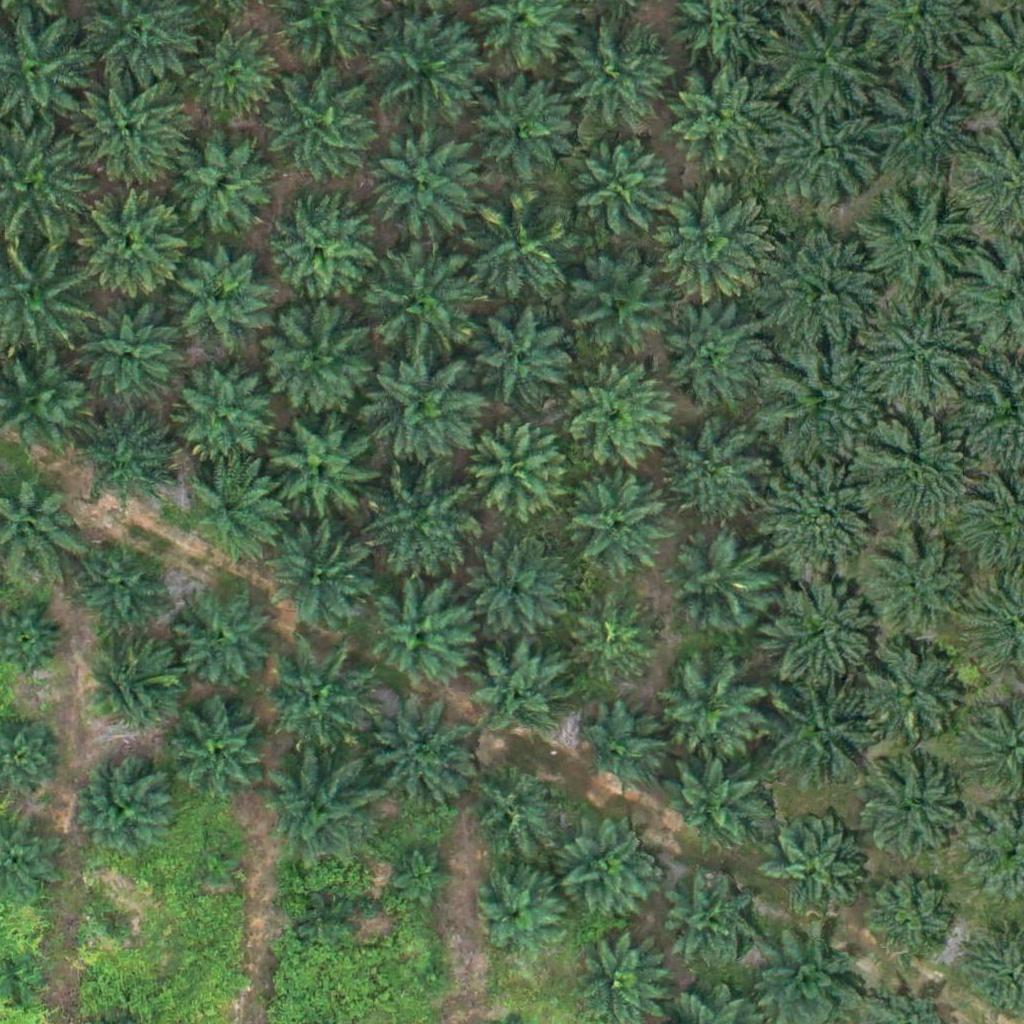Kelapa_Sawit: (362, 349, 487, 475), (651, 173, 776, 299), (647, 290, 772, 416), (764, 231, 889, 357), (764, 342, 889, 468), (864, 61, 989, 187), (761, 451, 886, 577), (852, 416, 977, 542), (859, 294, 984, 419), (756, 568, 881, 693), (269, 69, 382, 183), (260, 191, 373, 304), (263, 304, 376, 417), (560, 20, 673, 133), (365, 700, 478, 813), (363, 470, 476, 583), (856, 191, 969, 304), (765, 679, 878, 792), (367, 123, 479, 237), (365, 246, 477, 360), (462, 197, 574, 311), (562, 364, 674, 478), (77, 79, 189, 192), (77, 180, 189, 293), (371, 20, 483, 133), (663, 63, 775, 176), (771, 99, 883, 212), (264, 644, 376, 757), (260, 752, 372, 865), (83, 305, 183, 406), (175, 131, 275, 232), (173, 254, 273, 355), (470, 73, 570, 174), (572, 141, 672, 242), (663, 752, 763, 853), (558, 821, 658, 922), (469, 545, 569, 646), (469, 639, 569, 740), (462, 758, 562, 859), (370, 585, 470, 686), (274, 421, 374, 522), (267, 518, 367, 619), (168, 701, 268, 802), (175, 589, 275, 690), (184, 454, 284, 555), (171, 366, 271, 467), (75, 407, 175, 508), (75, 539, 175, 640), (79, 635, 179, 736), (764, 819, 864, 920), (861, 767, 961, 868), (859, 646, 959, 747), (864, 534, 964, 635), (183, 25, 283, 125), (476, 302, 576, 402), (566, 256, 666, 356), (663, 428, 763, 528), (671, 536, 771, 636), (659, 662, 759, 762), (570, 478, 670, 578), (467, 423, 567, 523), (71, 755, 171, 855), (578, 706, 666, 794), (571, 598, 659, 686), (665, 876, 753, 964), (476, 873, 563, 962), (864, 877, 951, 965), (392, 841, 454, 904), (192, 840, 242, 890), (88, 905, 138, 955), (303, 899, 353, 949), (414, 959, 451, 997)
